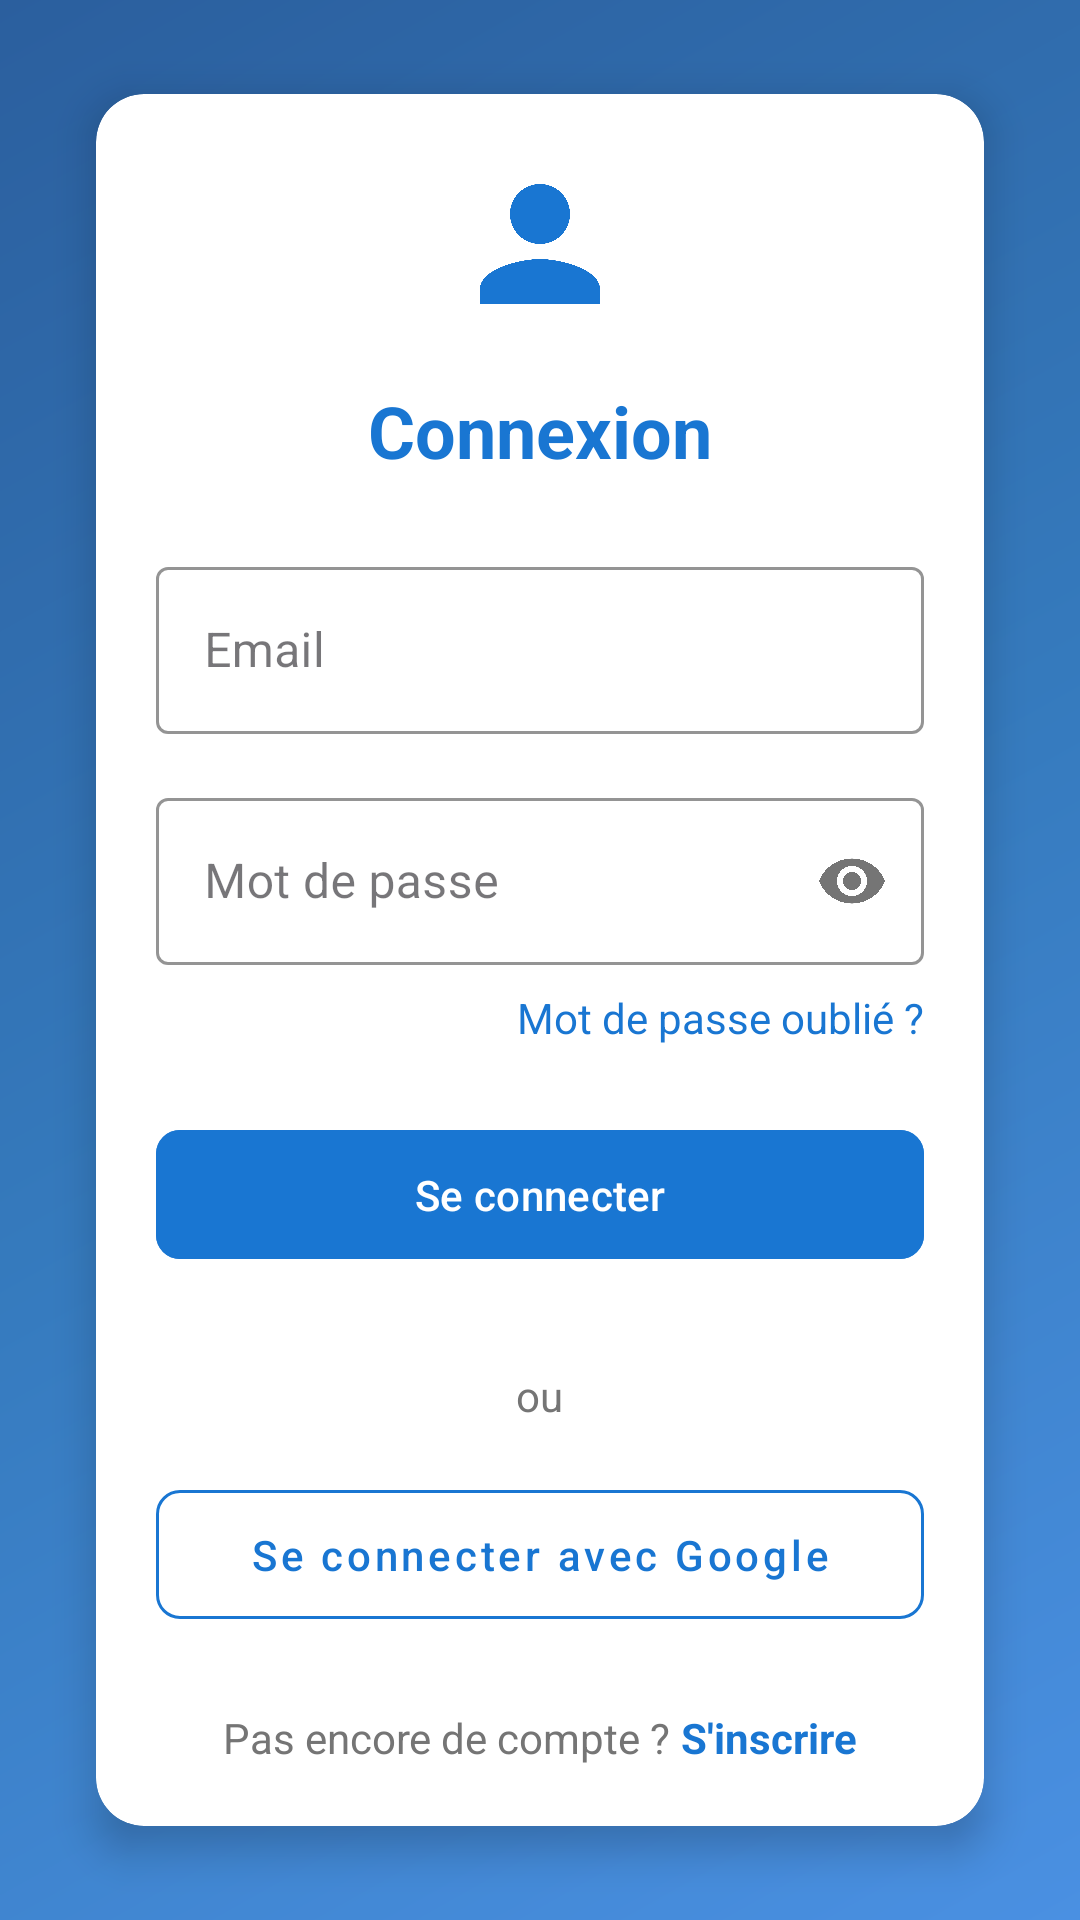

Named icons in this screenshot (1080w x 1920h) and their bounding boxes, (x1=x1, y1=y1, x2=x2, y2=y2):
person: (x1=480, y1=184, x2=600, y2=304)
